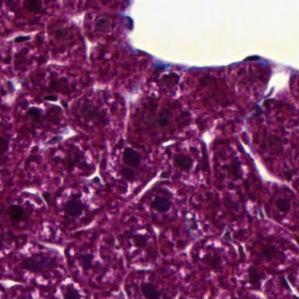inflammation: (79, 165, 112, 191), (125, 227, 154, 256)
